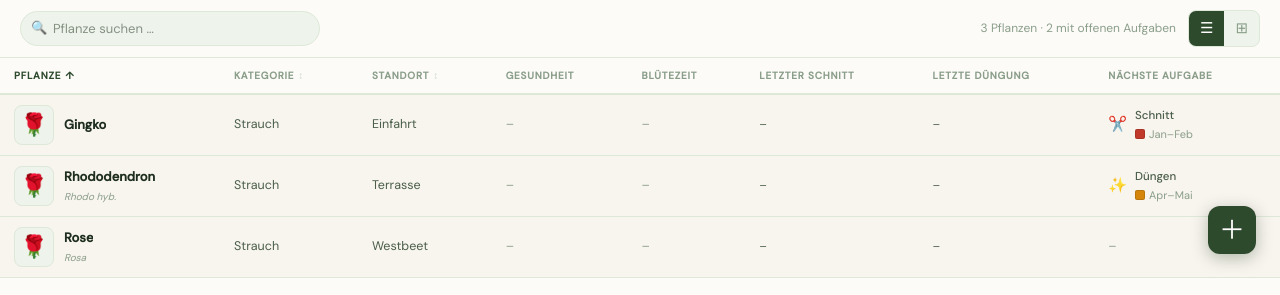
it: PlantsView — search (AC #2) › filters by botanical name
The width and height of the screenshot is (1280, 295).
Check: the number of rows with test id "plant-row" is 3, box left=0, top=94, right=1279, bottom=155; left=0, top=155, right=1279, bottom=216; left=0, top=216, right=1279, bottom=277
In the field with test id "plants-search": {"x": 170, "y": 28} left=20, top=10, right=320, bottom=46, type "Rhodo"
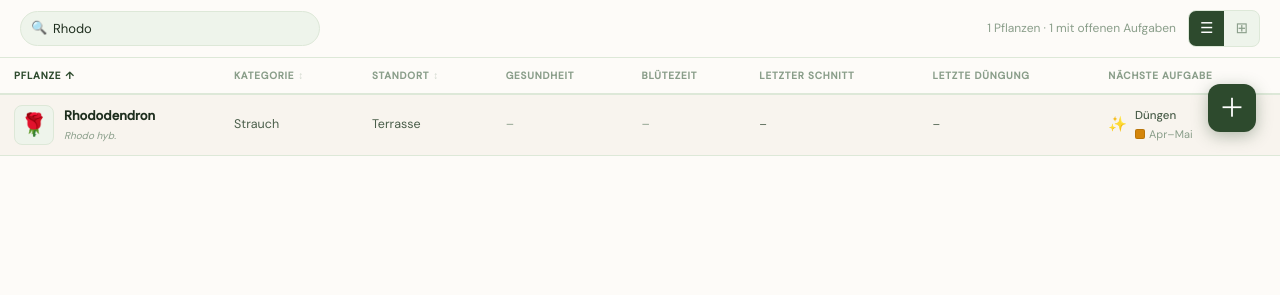
Check: the text "Rhododendron" is shown, box left=64, top=106, right=155, bottom=126
Check: the number of rows with test id "plant-row" is 1, box left=0, top=94, right=1279, bottom=155
